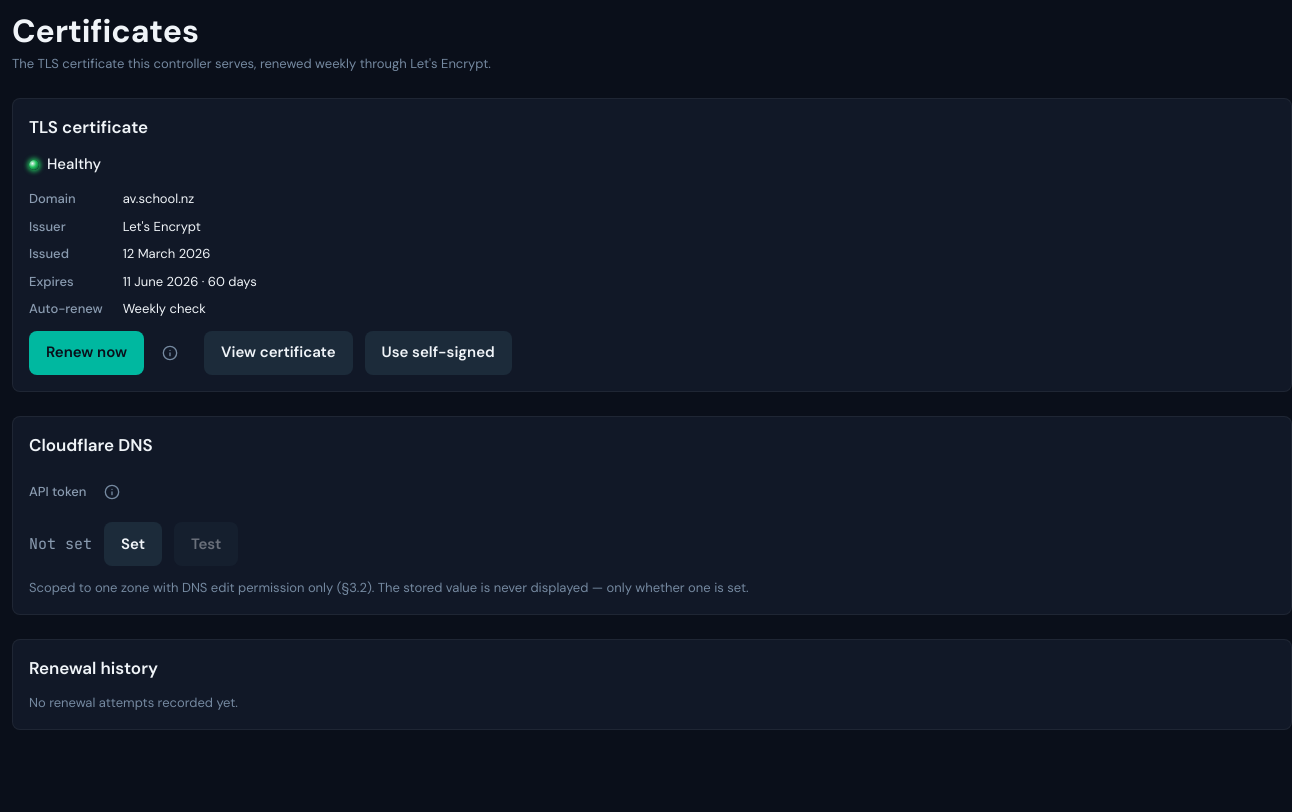
Test case: CertificatesScreen — the token is write-only › saves a new token without ever echoing it back, and clears the field
Click the button "Set".
click(133, 544)  # box [104,522,162,566]
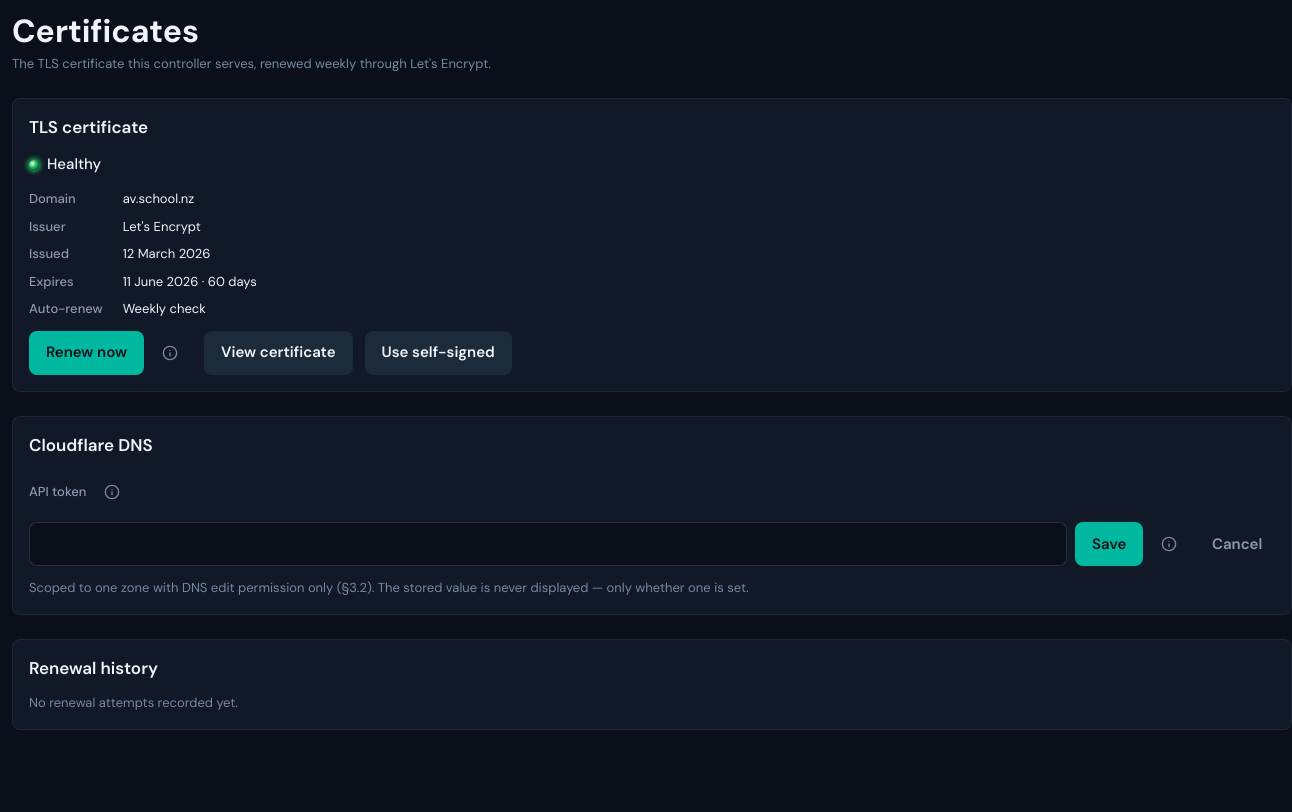
Type "cf-secret-abc123" into the password field labelled "API token".
click(548, 544); type("cf-secret-abc123")  # box [29,522,1067,566]
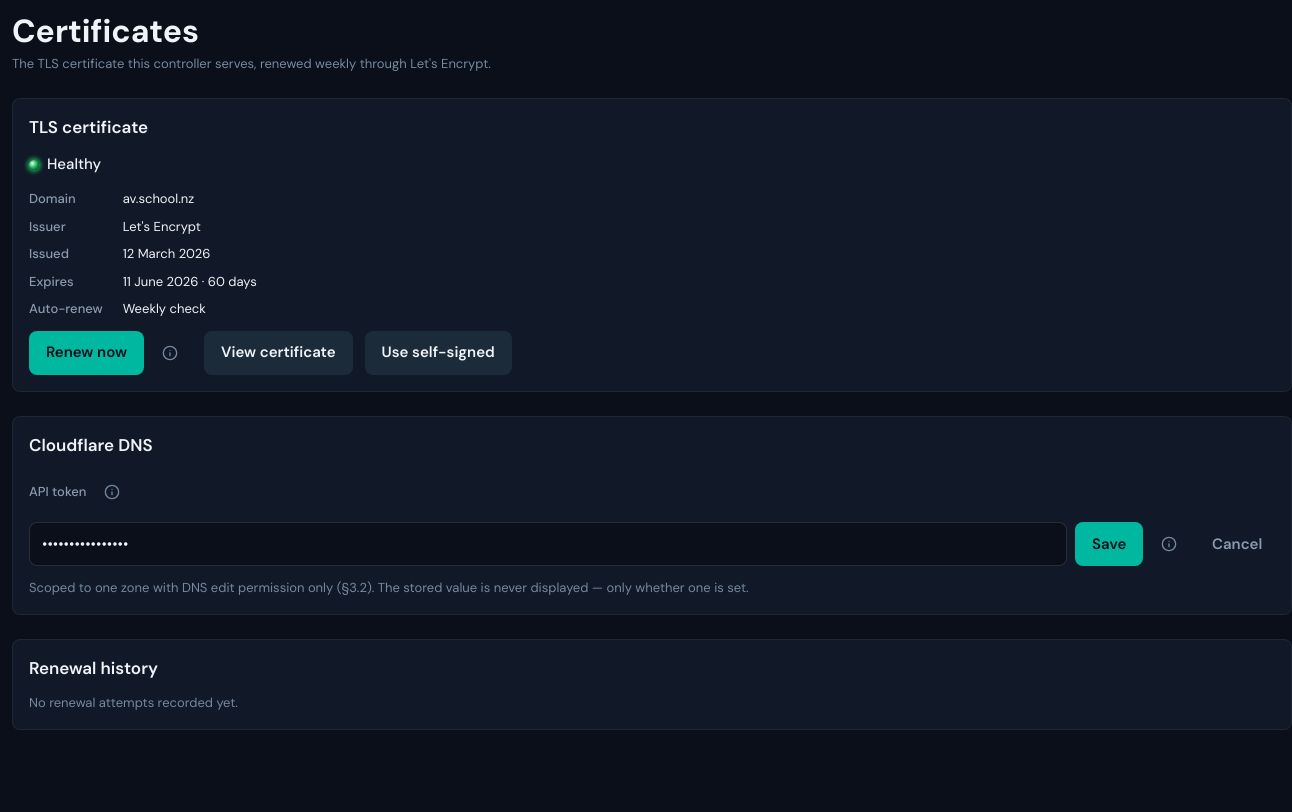
Click the button "Save".
click(1109, 544)  # box [1075,522,1143,566]
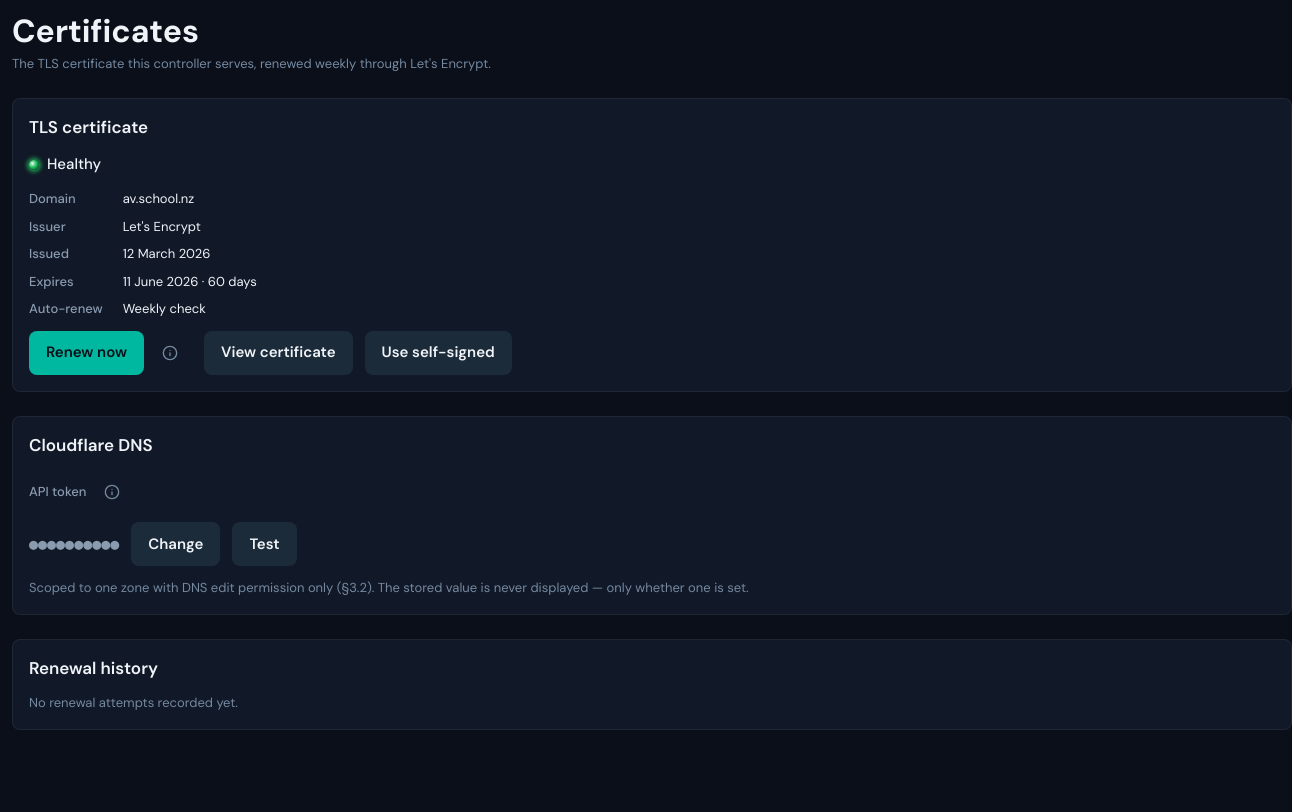
Expected: the text "●●●●●●●●●●" is shown, [29,532,119,557]
